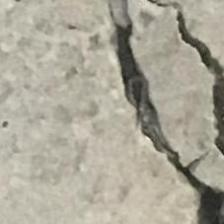Crack: (106, 0, 224, 224)
